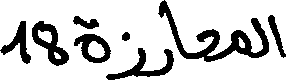1: (0, 19, 29, 65)
8: (31, 19, 68, 67)
ا: (266, 13, 285, 59), (170, 11, 185, 69)
ة: (81, 16, 112, 78)
ح: (194, 27, 217, 63)
ر: (144, 45, 171, 77)
ز: (110, 30, 147, 79)
ل: (249, 15, 266, 59)
م: (230, 28, 249, 58)
